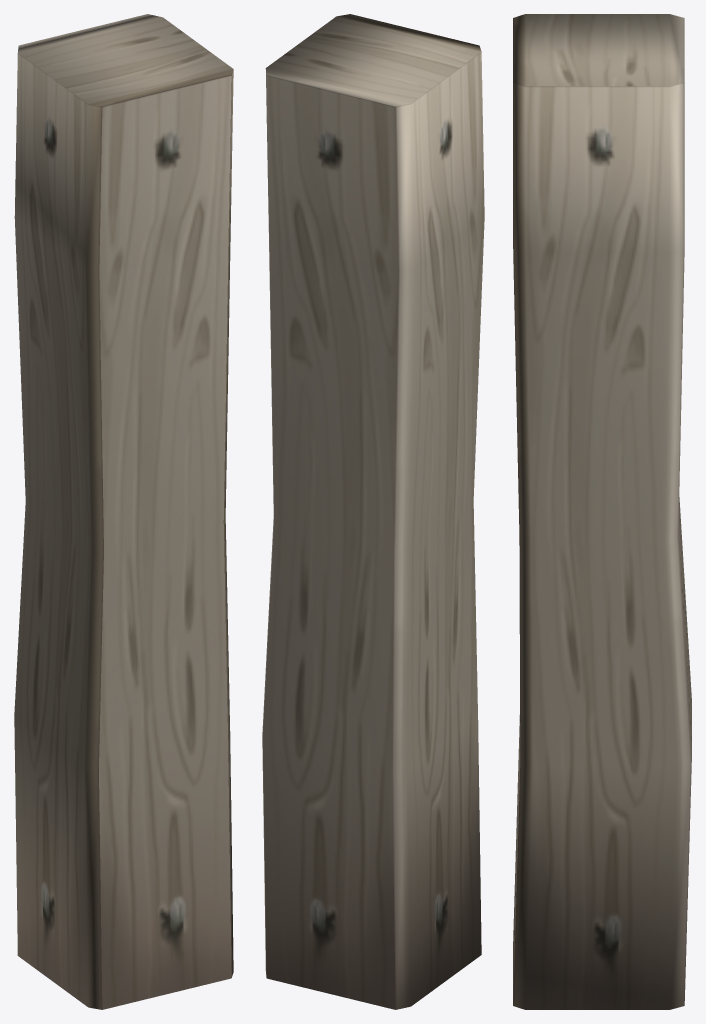
Rendered from barn_pillar1.fbx.
3 renders of one model, left to right at view 1: azimuth 30°, elevation 25°; view 2: azimuth 150°, elevation 25°; view 3: azimuth 270°, elevation 25°, orthographic. The views are drawn at different scales.
Parts seen in each view (by area): view 1: barn_pillar; view 2: barn_pillar; view 3: barn_pillar.
Boxes of the visible parts, box(x1,y1,x2,y2) form: barn_pillar: box(14, 14, 233, 1009); barn_pillar: box(262, 14, 484, 1009); barn_pillar: box(513, 14, 691, 1009).
Bounding box in the file's own units: 1.98 × 11.53 × 2.02.
